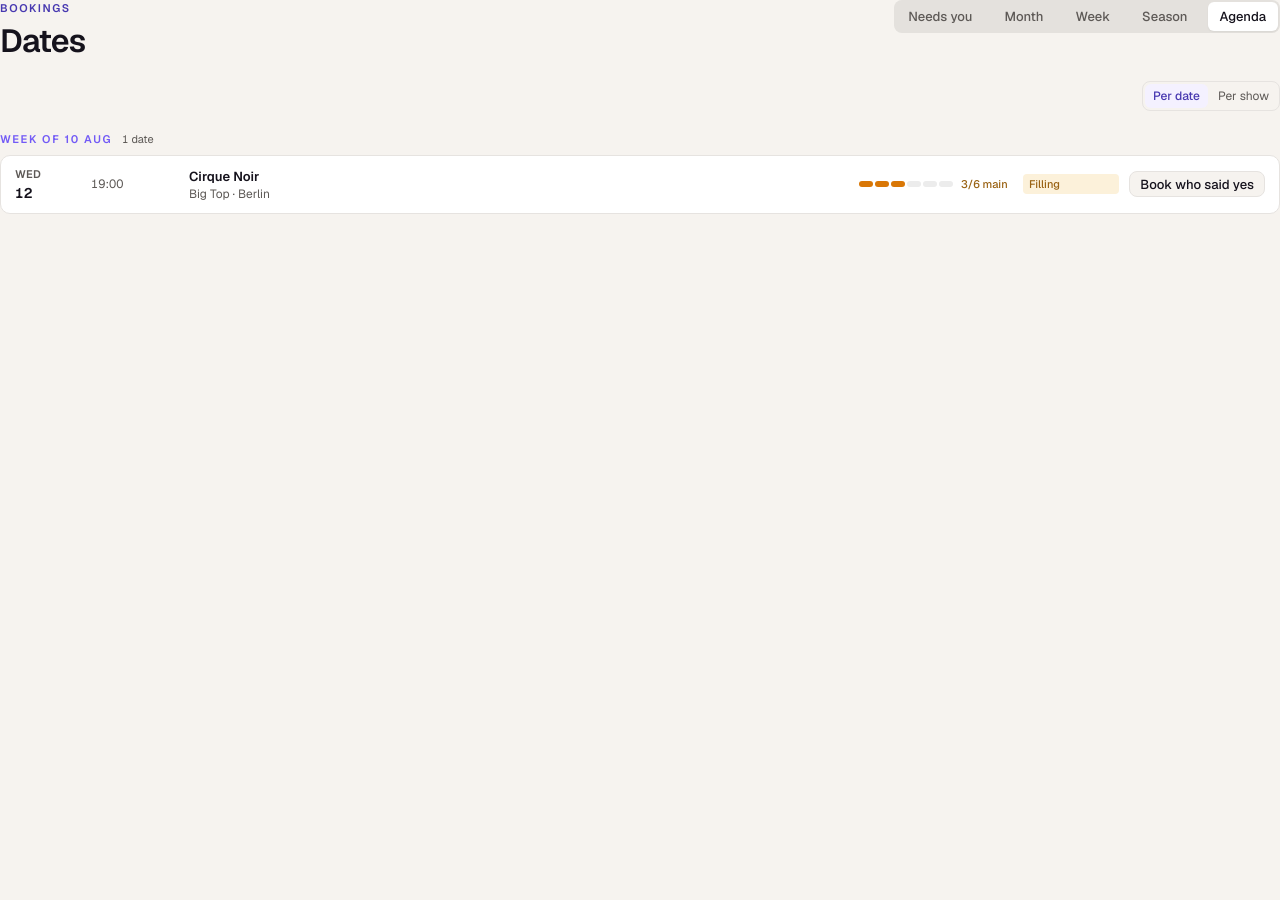
Test case: CalendarSurface — mobile shell (useIsMobile true) › tapping an Agenda row opens the CalendarDaySheet for that row's date, instead of navigating via actions.openDate
Later steps or results of the test are not shown.
Click the button with test id "agenda-row-pd-agenda": (107, 184) [1,156,1279,212]
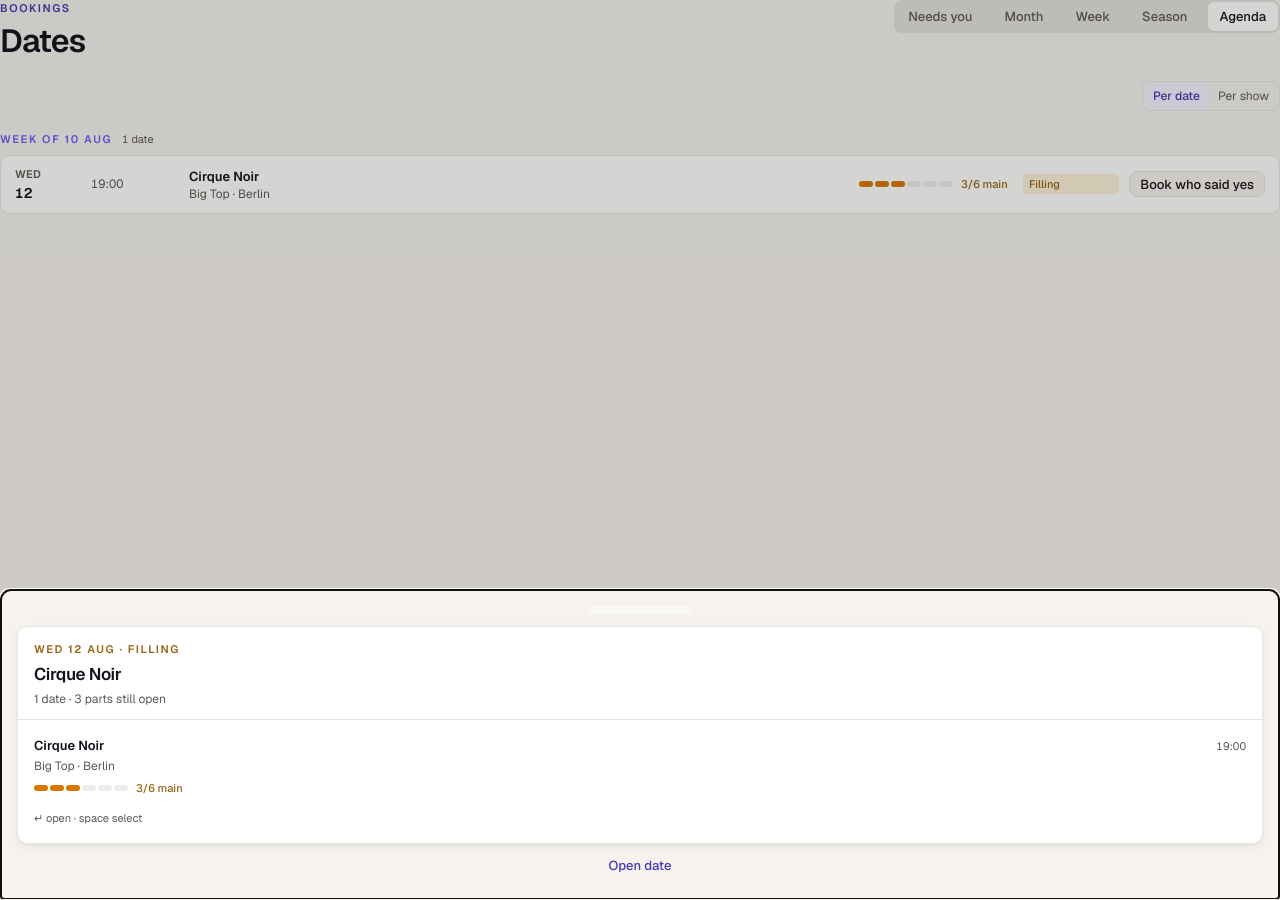
Expected: the dialog with test id "calendar-day-sheet" is shown, [0,589,1279,899]
Expected: the dialog with test id "calendar-day-sheet" shows "Cirque Noir", [34,662,121,684]
